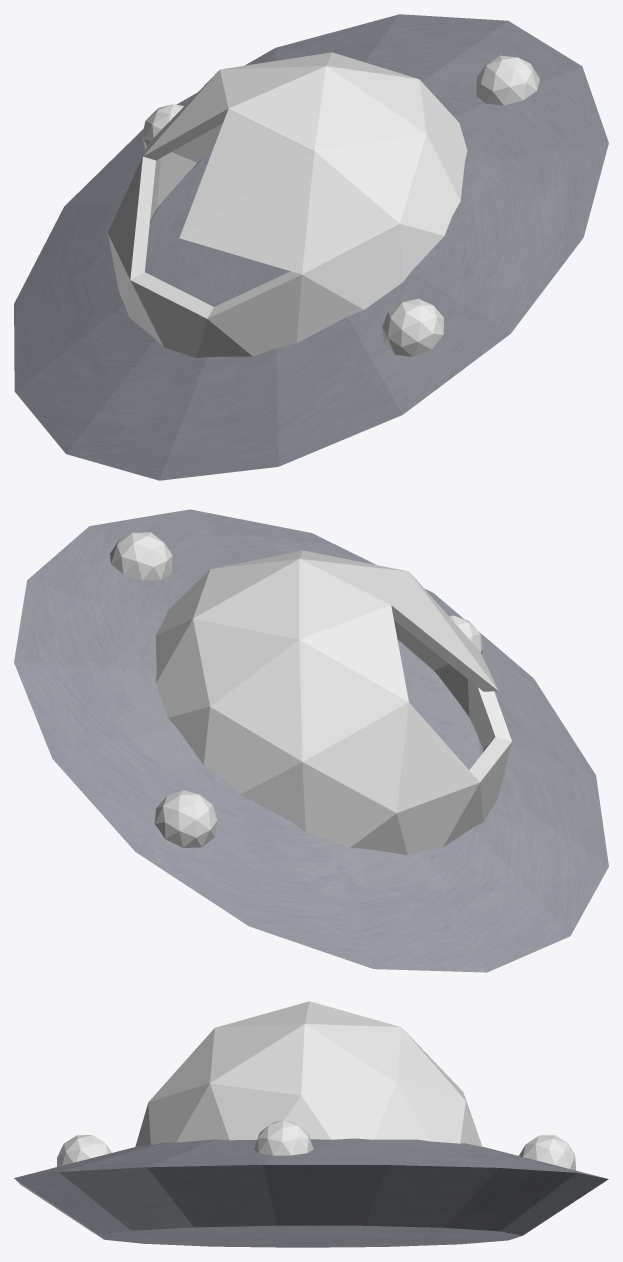
File: Ovini.fbx
The picture shows the model from 3 angles, top to bottom: view 1: azimuth 30°, elevation 25°; view 2: azimuth 150°, elevation 25°; view 3: azimuth 270°, elevation 25°; orthographic projection. The views are drawn at different scales.
Visible parts, largest first — view 1: Cylinder, Icosphere, Icosphere.001; view 2: Cylinder, Icosphere, Icosphere.001; view 3: Cylinder, Icosphere, Icosphere.001.
Part boxes in pixels (bbox=[...]): Cylinder: bbox=[14, 14, 608, 480]; Icosphere: bbox=[107, 52, 467, 357]; Icosphere.001: bbox=[142, 55, 539, 356]; Cylinder: bbox=[14, 509, 608, 972]; Icosphere: bbox=[155, 550, 511, 854]; Icosphere.001: bbox=[110, 532, 483, 847]; Cylinder: bbox=[14, 1138, 608, 1247]; Icosphere: bbox=[135, 1001, 482, 1146]; Icosphere.001: bbox=[57, 1120, 575, 1170].
Size of the model in its own units: 736 by 461 by 833.
